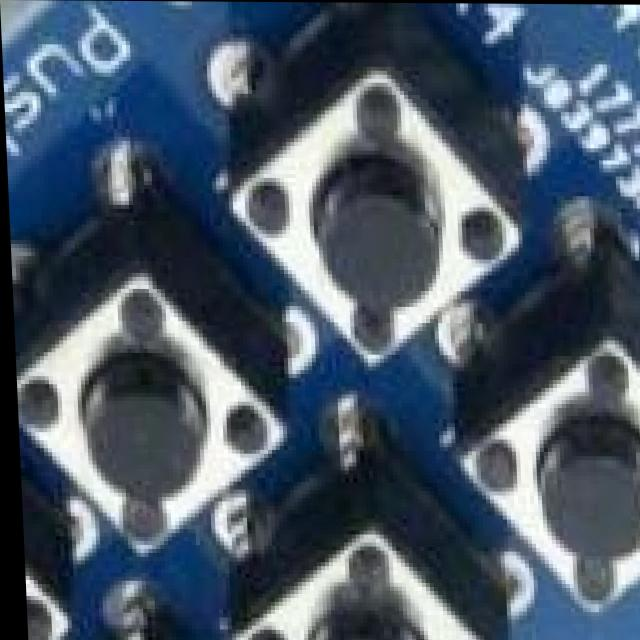switch: (225, 29, 513, 367), (8, 236, 271, 549), (464, 351, 640, 632), (234, 521, 490, 640), (16, 460, 30, 640)
